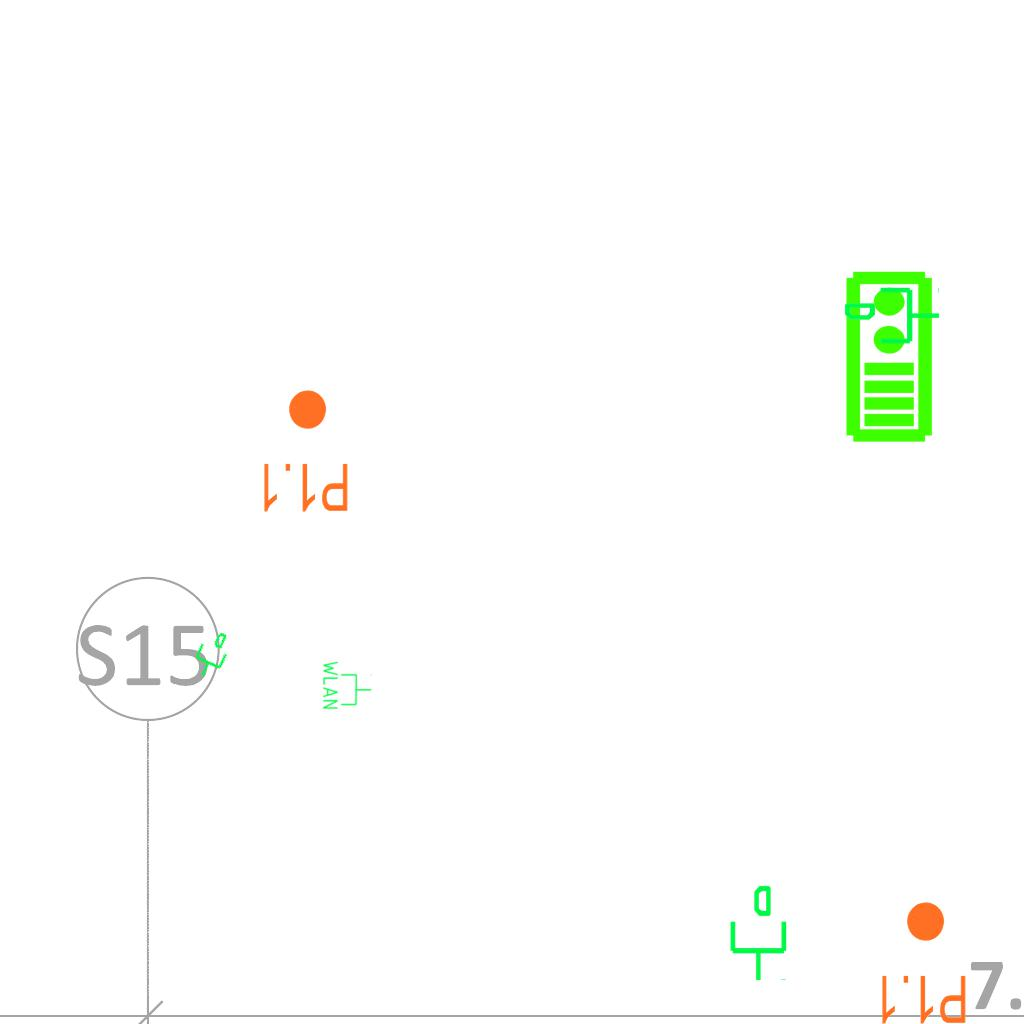Datenanschluss_einfach: (722, 883, 791, 983), (842, 283, 942, 352), (185, 624, 237, 684)
Downlight_LED_Einbauleuchten_Flur: (258, 387, 351, 515), (876, 899, 969, 1024)
Gegensprechanlage_mit_Video: (840, 268, 935, 444)
WLAN: (321, 659, 373, 711)
